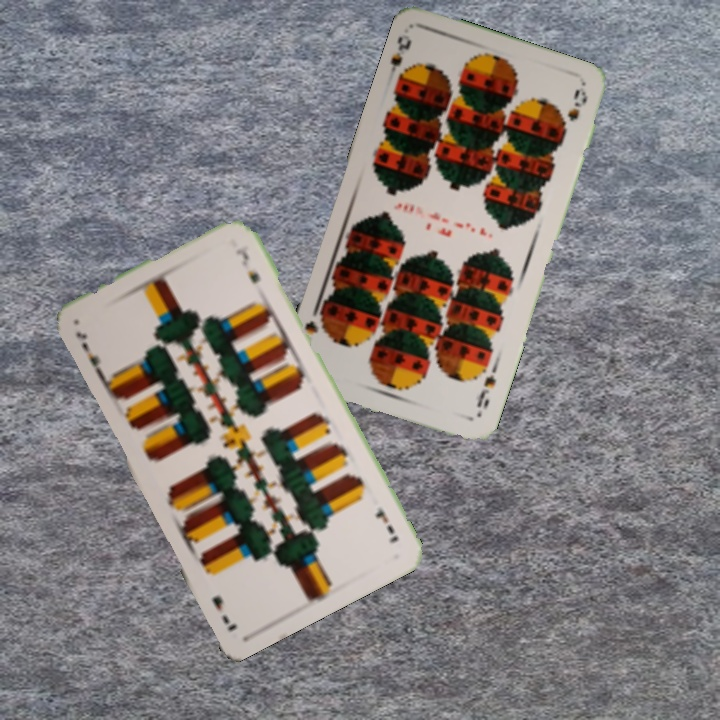E7: (71, 327, 106, 379), (371, 502, 401, 546)
S9: (383, 32, 414, 86), (472, 371, 499, 410)
